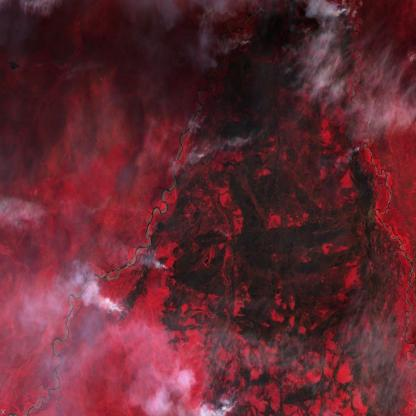fire: (235, 0, 364, 67), (197, 359, 244, 416), (182, 98, 216, 172), (92, 279, 130, 340), (148, 252, 174, 284), (347, 128, 367, 156)
